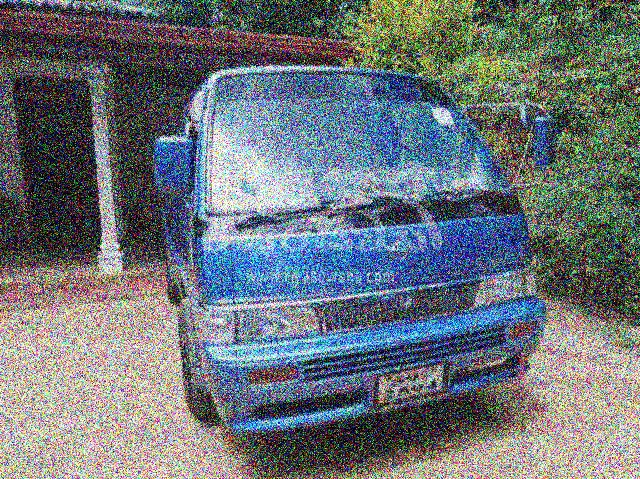van: (133, 59, 575, 436)
